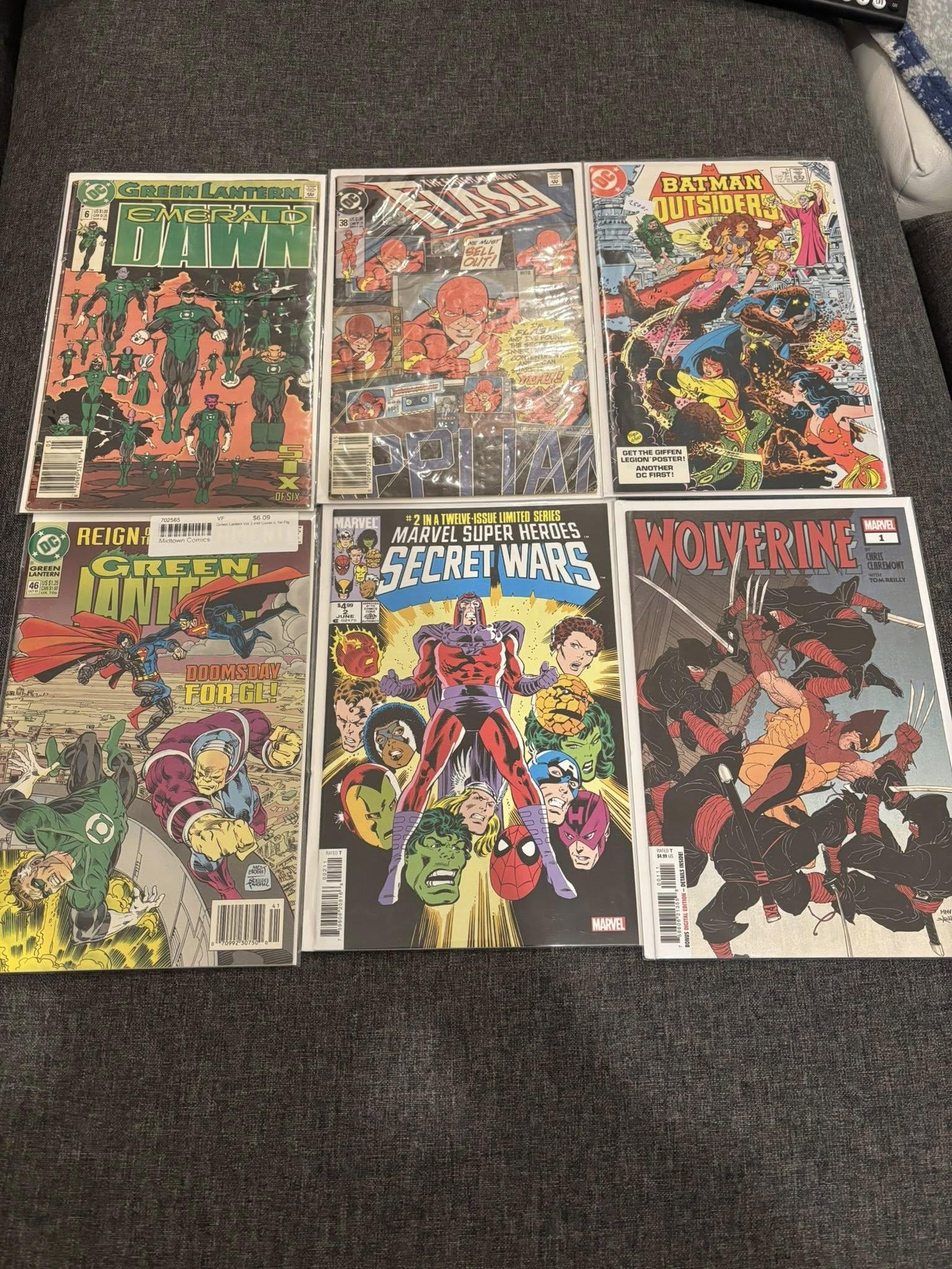comic: (616, 484, 952, 971), (297, 500, 637, 950), (0, 513, 314, 972), (586, 147, 891, 509), (21, 169, 324, 518), (310, 164, 598, 504)
